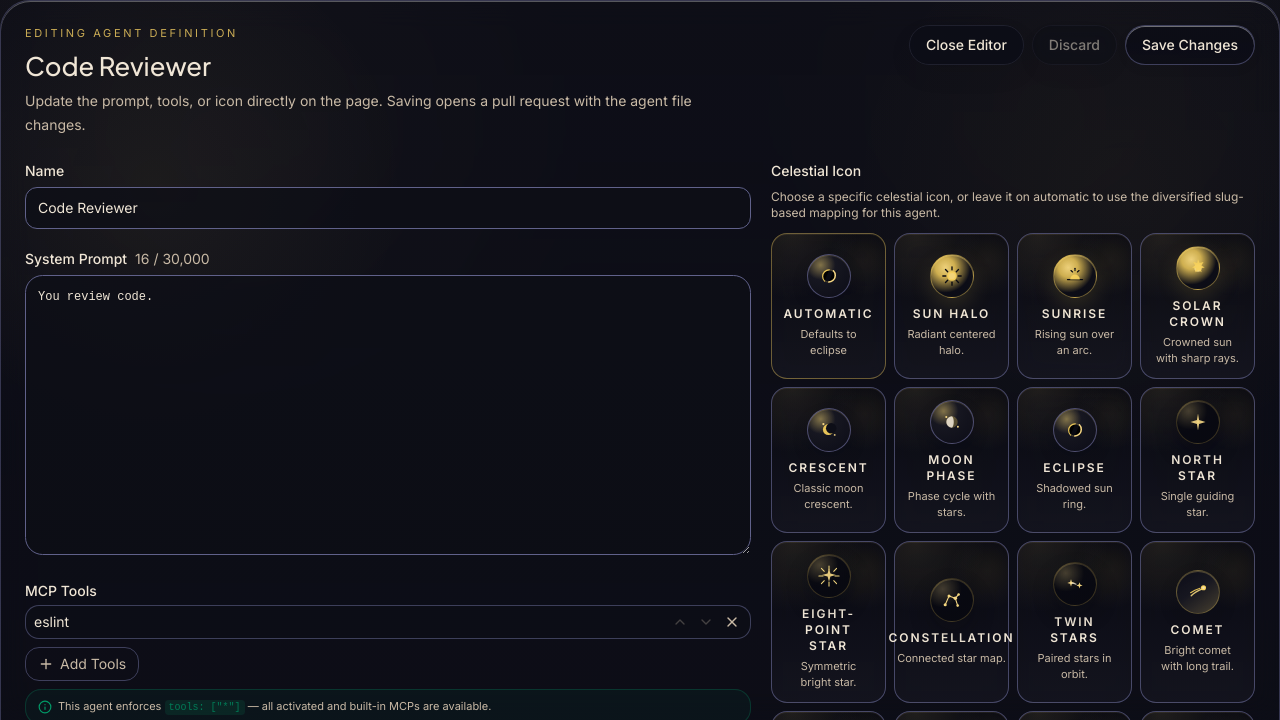
AgentInlineEditor › displays error when save fails
Click the button "Save Changes" at (1190, 45), box [1125, 25, 1255, 65]
(page scrolled)
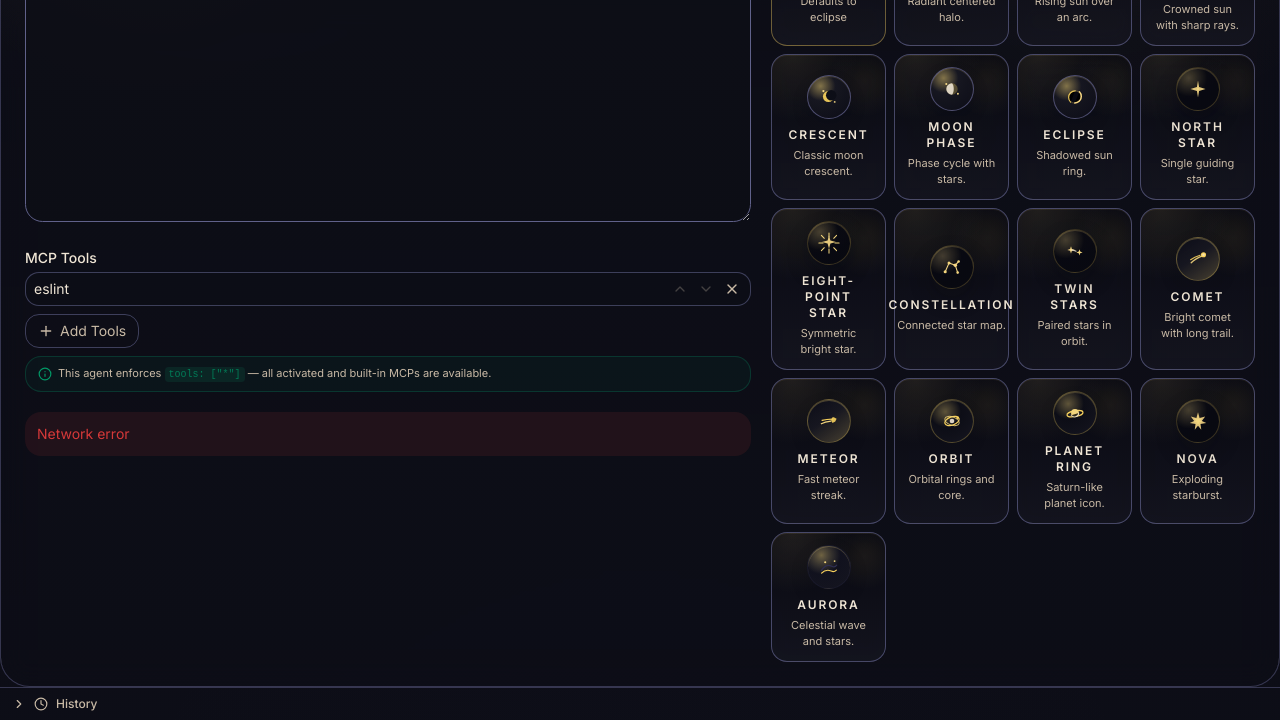
Now the text "Network error" is shown, box [25, 412, 751, 456]
